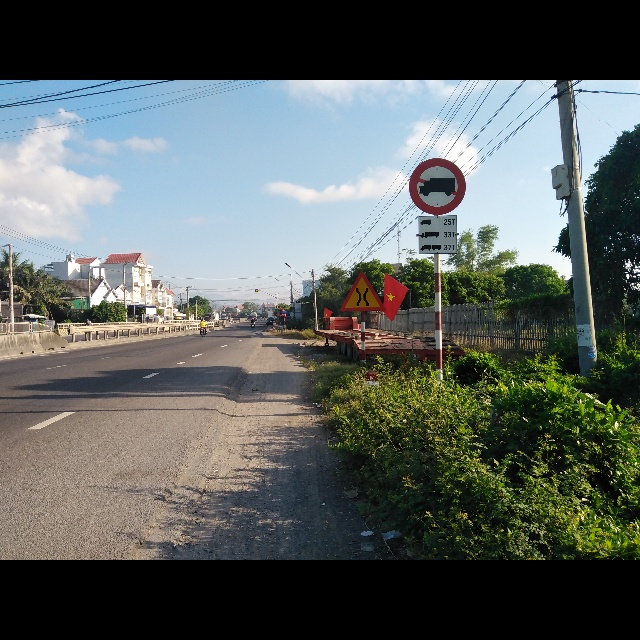Cấm xe tải: (408, 157, 469, 215)
Cầu hẹp: (342, 272, 386, 313)
